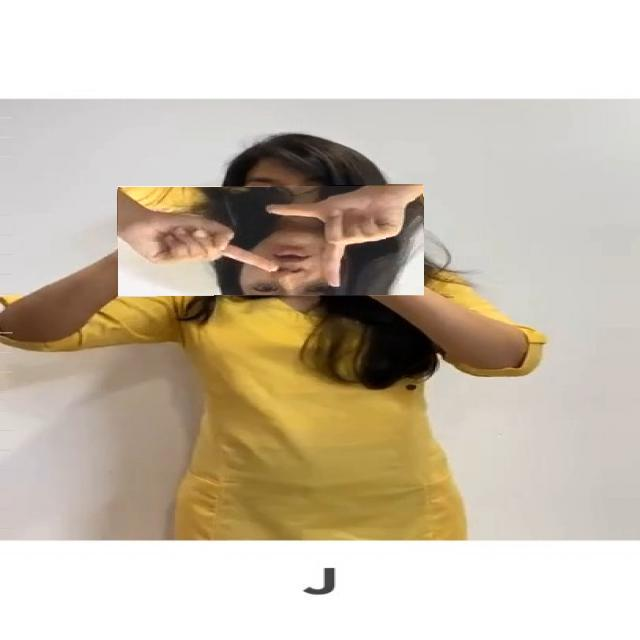J: (118, 186, 424, 296)
